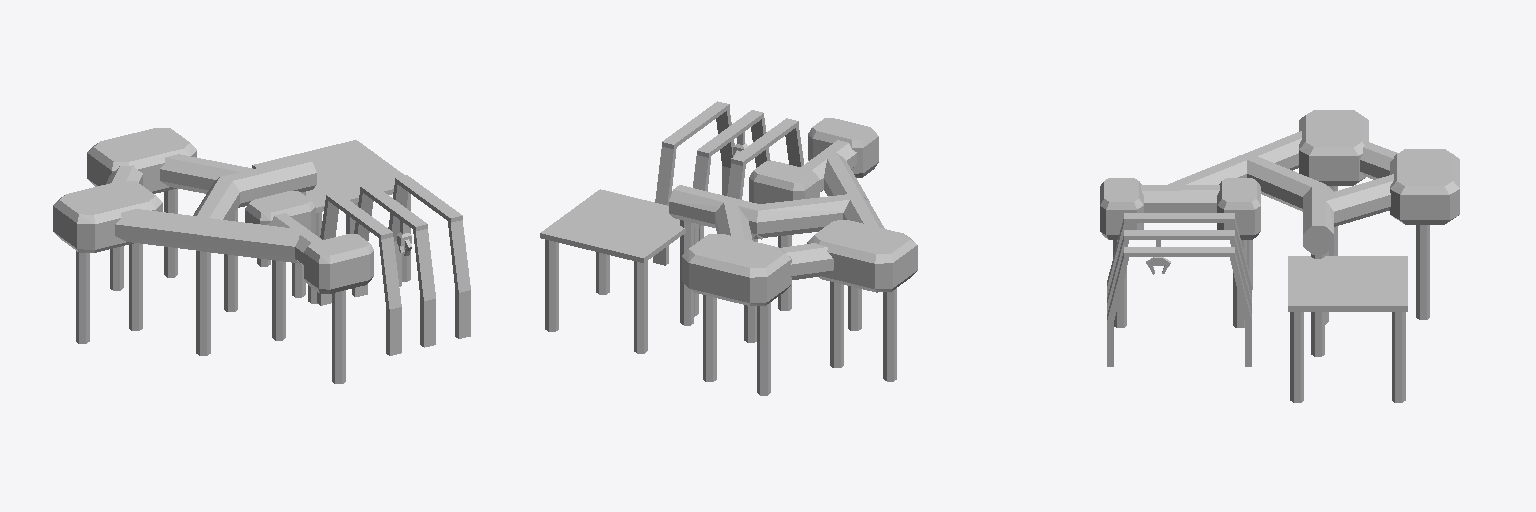
Rendered from deepsubmergence.seabase.obj.
The picture shows the model from 3 angles: view 1: azimuth 30°, elevation 25°; view 2: azimuth 150°, elevation 25°; view 3: azimuth 270°, elevation 25°; orthographic projection.
Visible parts, largest first — view 1: Cylinder_Cylinder.001; view 2: Cylinder_Cylinder.001; view 3: Cylinder_Cylinder.001.
Part boxes in pixels (x1,y1,x2,y2): Cylinder_Cylinder.001: (53,128,470,383); Cylinder_Cylinder.001: (540,101,917,395); Cylinder_Cylinder.001: (1100,110,1459,402).
Bounding box in the file's own units: 13.44 × 5.33 × 12.78.